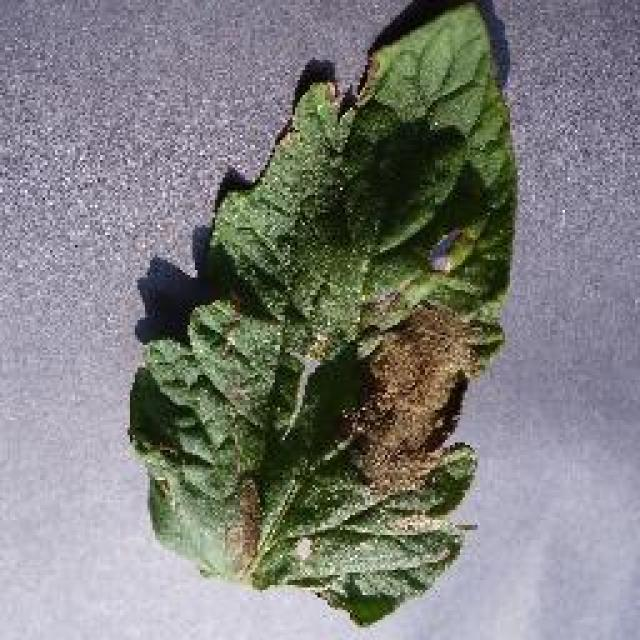Tomato___Late_blight: (126, 0, 520, 630)
